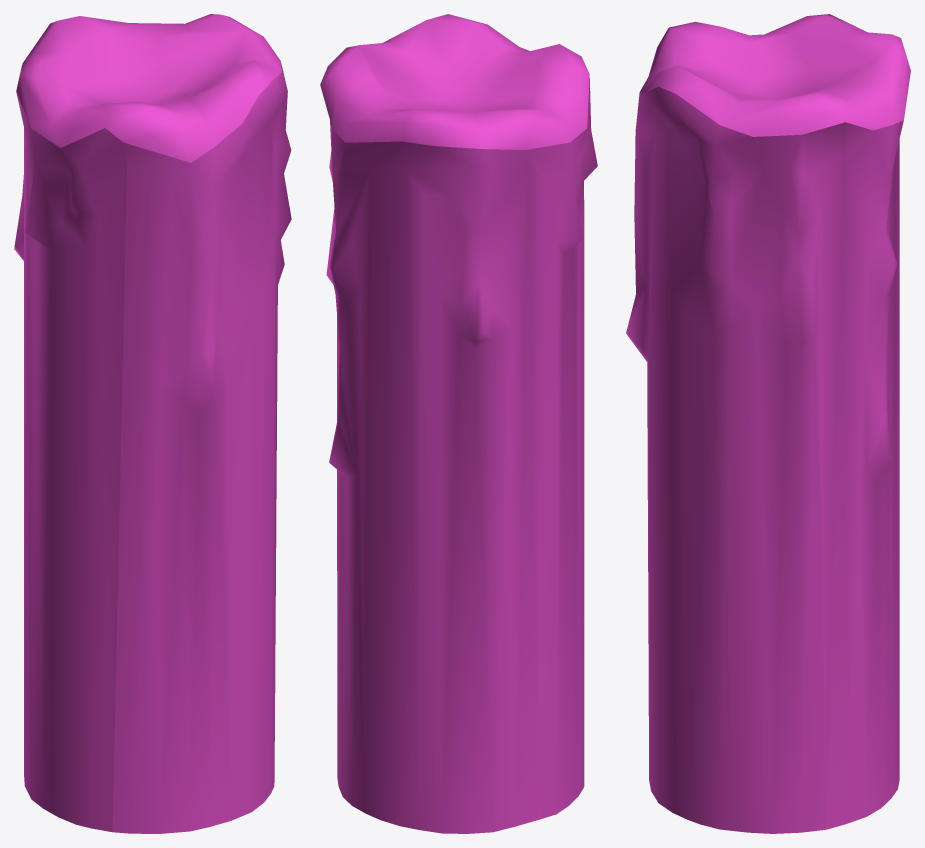
The model's file is candle_long.fbx.
3 renders of one model, left to right at view 1: azimuth 30°, elevation 25°; view 2: azimuth 150°, elevation 25°; view 3: azimuth 270°, elevation 25°, orthographic. The views are drawn at different scales.
Parts seen in each view (by area): view 1: candle_long; view 2: candle_long; view 3: candle_long.
Part boxes in pixels (bbox=[...]): candle_long: bbox=[14, 14, 291, 833]; candle_long: bbox=[320, 14, 597, 833]; candle_long: bbox=[626, 14, 910, 833].
Bounding box in the file's own units: 2.43 × 6.9 × 2.43.
